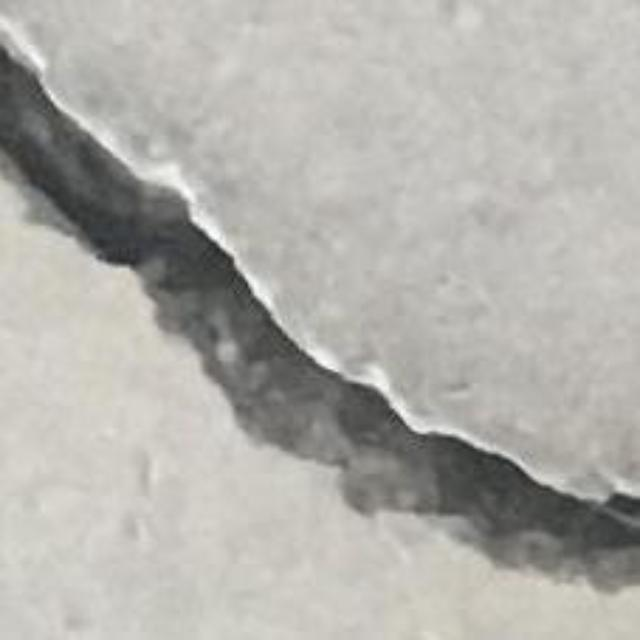crack: (0, 46, 639, 583)
